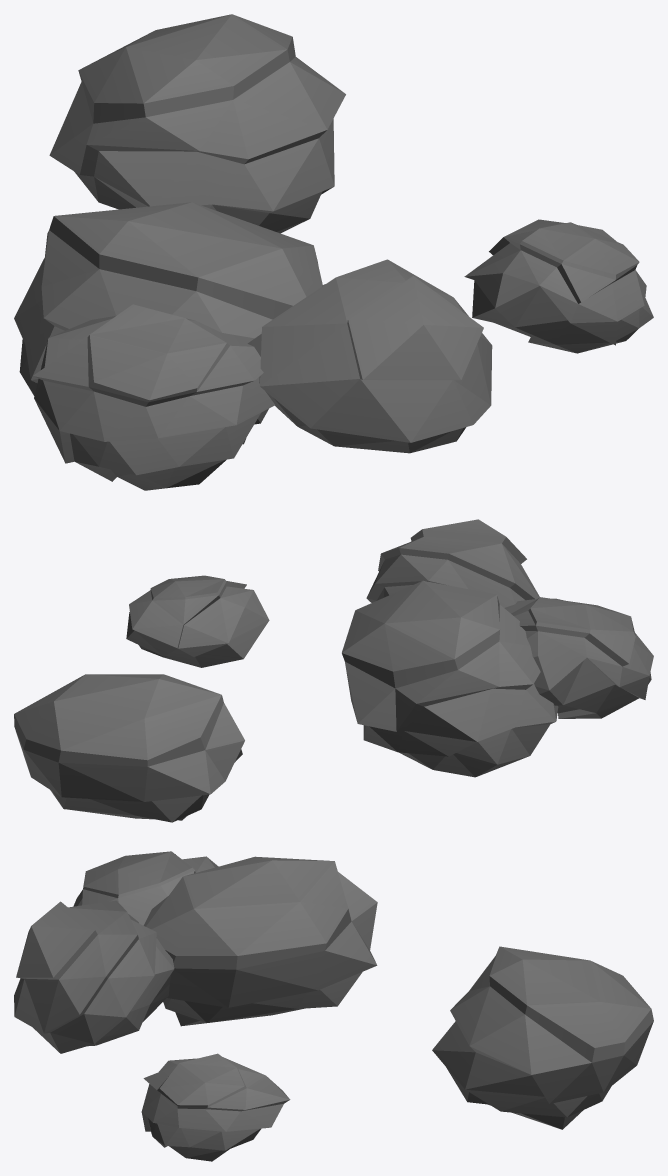
File: SM_ROCK1.fbx
3 renders of one model, top to bottom at view 1: azimuth 30°, elevation 25°; view 2: azimuth 150°, elevation 25°; view 3: azimuth 270°, elevation 25°, orthographic. The views are drawn at different scales.
Visible parts, largest first — view 1: ROCK1; view 2: ROCK1; view 3: ROCK1.
Part boxes in pixels (x1=…): ROCK1: x1=14, y1=14, x2=653, y2=490; ROCK1: x1=14, y1=519, x2=653, y2=822; ROCK1: x1=14, y1=851, x2=653, y2=1161.
Size of the model in its own units: 113 by 34.57 by 132.
Materials: 1 (1 with a texture image).
